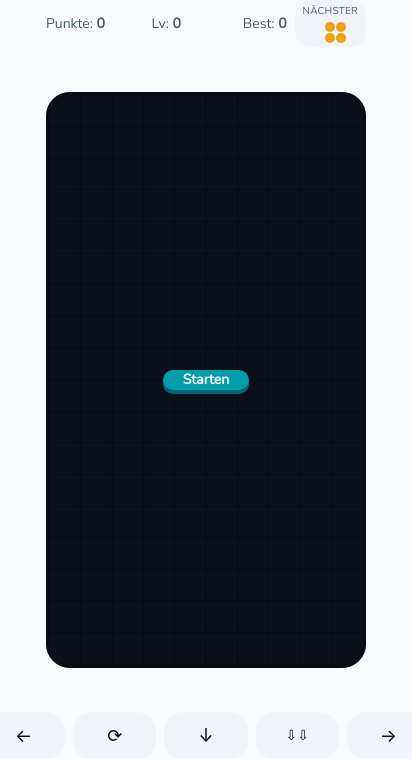
Test: BlocksGame › hides the start overlay once the game begins
Click the button "Starten" at (206, 380), box [163,370,249,390]
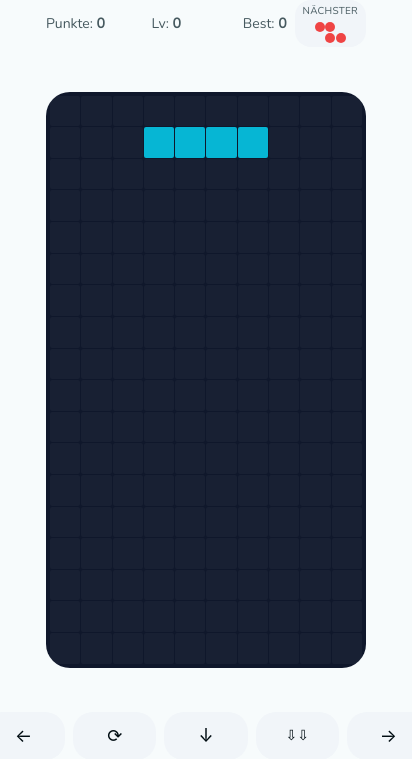
expect the table named "Blockstapler-Feld" is shown: met, box [50,96,362,664]
expect the button "Starten" is gone: met
